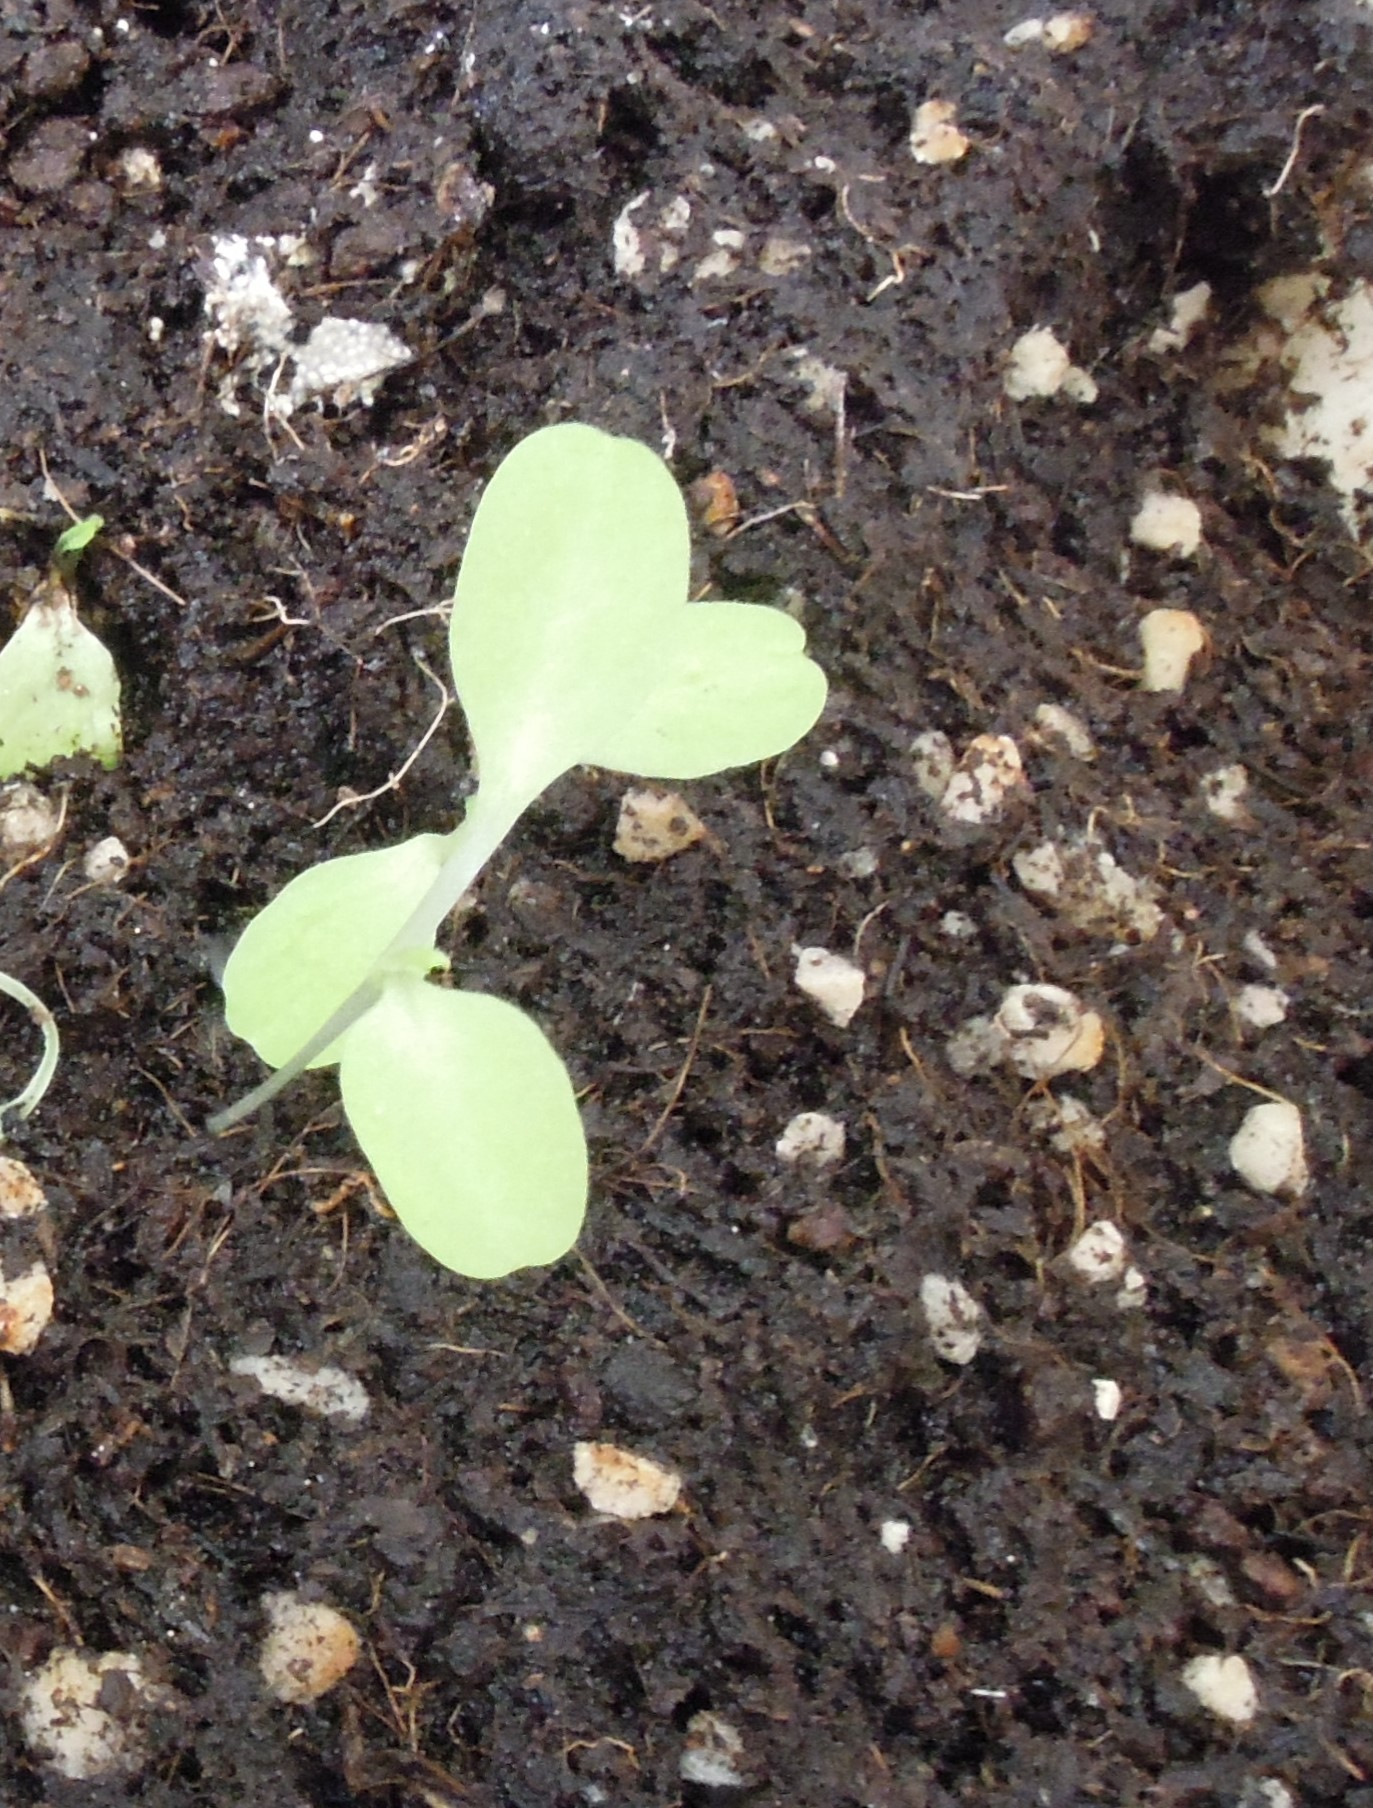week2: (415, 389, 875, 921), (244, 731, 622, 1315)
